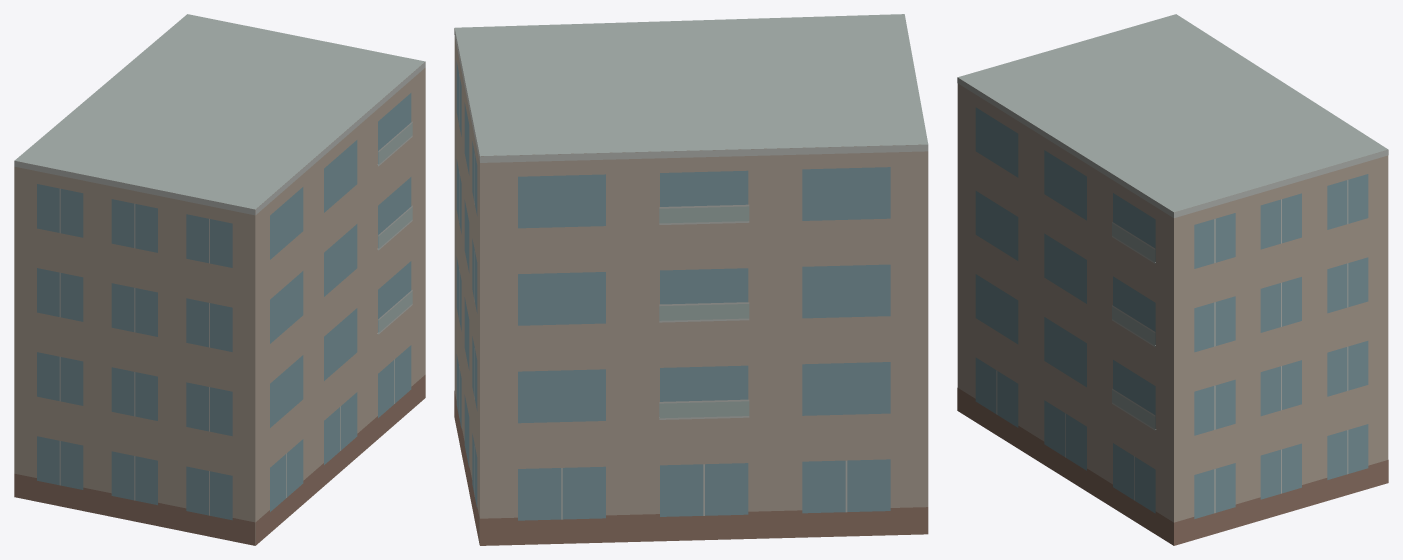
Rendered from survey-upis-32883649.glb.
3 renders of one model, left to right at view 1: azimuth 30°, elevation 25°; view 2: azimuth 150°, elevation 25°; view 3: azimuth 270°, elevation 25°, orthographic. The views are drawn at different scales.
Parts seen in each view (by area): view 1: survey-upis-32883649.tmp; view 2: survey-upis-32883649.tmp; view 3: survey-upis-32883649.tmp.
Part boxes in pixels (left/top/right/bottom): survey-upis-32883649.tmp: left=14, top=14, right=425, bottom=545; survey-upis-32883649.tmp: left=454, top=14, right=928, bottom=545; survey-upis-32883649.tmp: left=957, top=14, right=1388, bottom=545.
Size of the model in its own units: 17.68 by 13.85 by 16.23.
